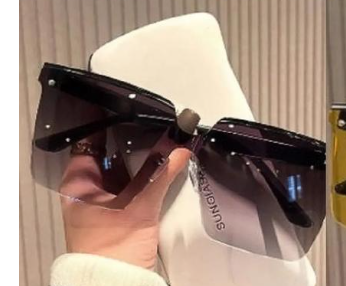glass: (27, 54, 336, 261)
